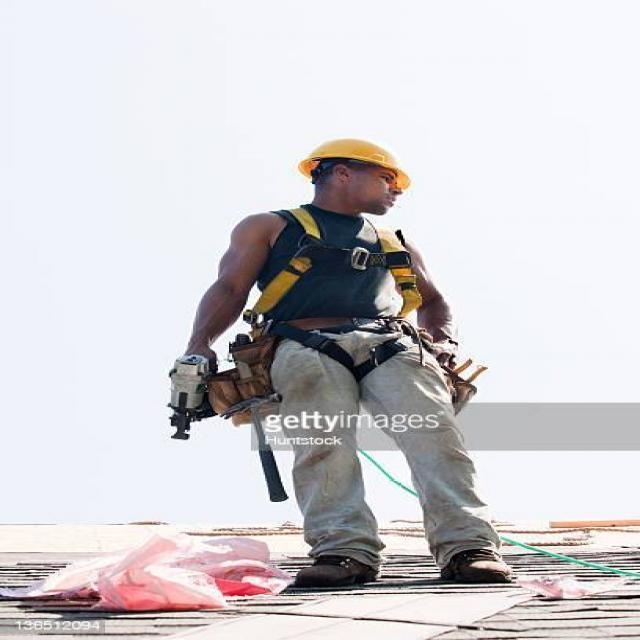Arnes_seguridad: (248, 197, 433, 391)
